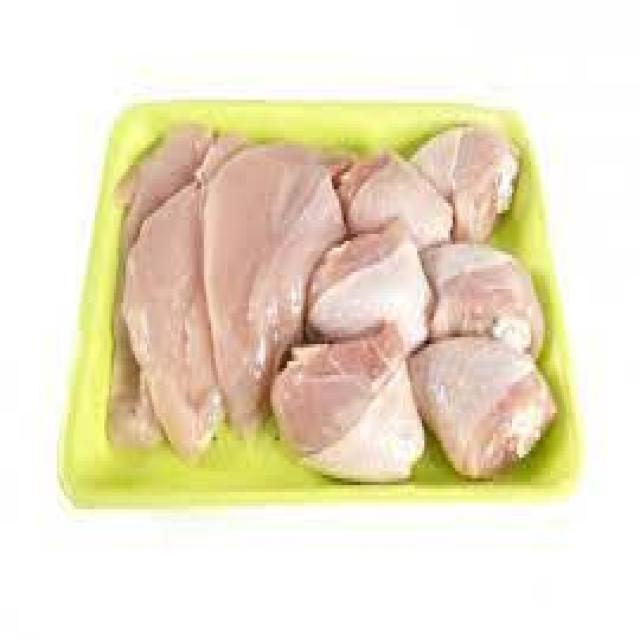chicken: (203, 125, 349, 441), (110, 107, 229, 452), (408, 324, 560, 483), (276, 332, 426, 480), (406, 116, 523, 251), (310, 218, 424, 348), (420, 242, 548, 357), (337, 143, 456, 236)
